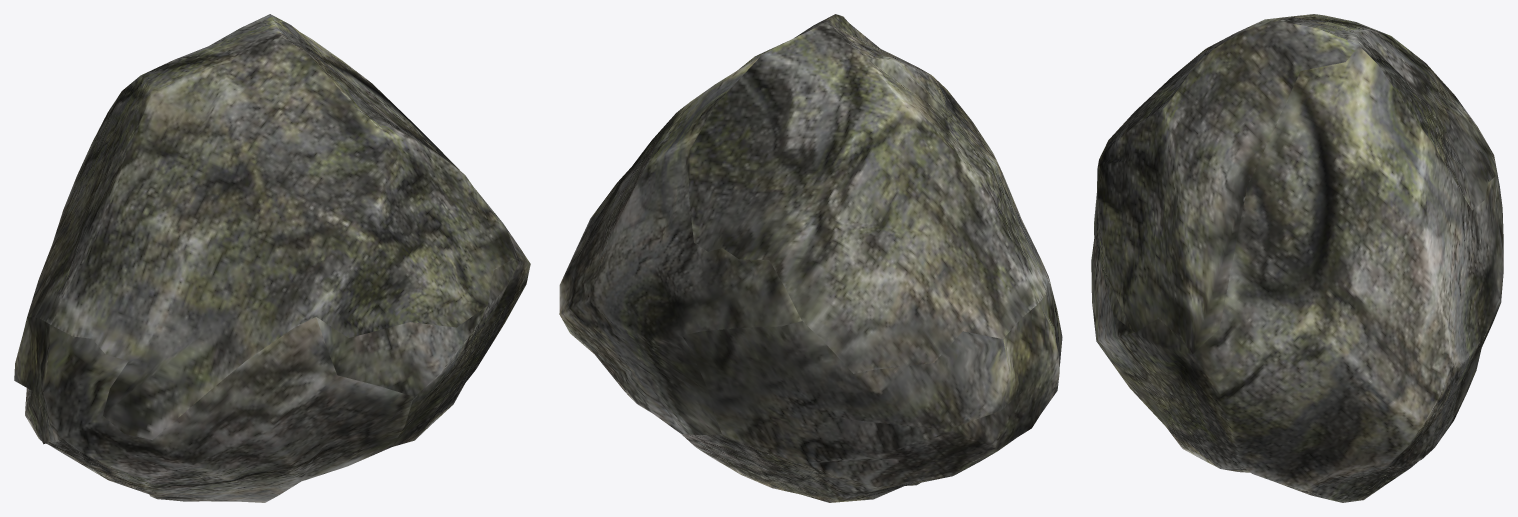
The model's file is rock2_LOD1.FBX.
The picture shows the model from 3 angles, left to right: view 1: azimuth 30°, elevation 25°; view 2: azimuth 150°, elevation 25°; view 3: azimuth 270°, elevation 25°; orthographic projection. The views are drawn at different scales.
Parts seen in each view (by area): view 1: rock2_LOD1; view 2: rock2_LOD1; view 3: rock2_LOD1.
Part boxes in pixels (box(x1,y1,x2,y2)): rock2_LOD1: box(14, 14, 530, 502); rock2_LOD1: box(559, 14, 1062, 502); rock2_LOD1: box(1091, 14, 1503, 502).
Size of the model in its own units: 173 by 168 by 135.
